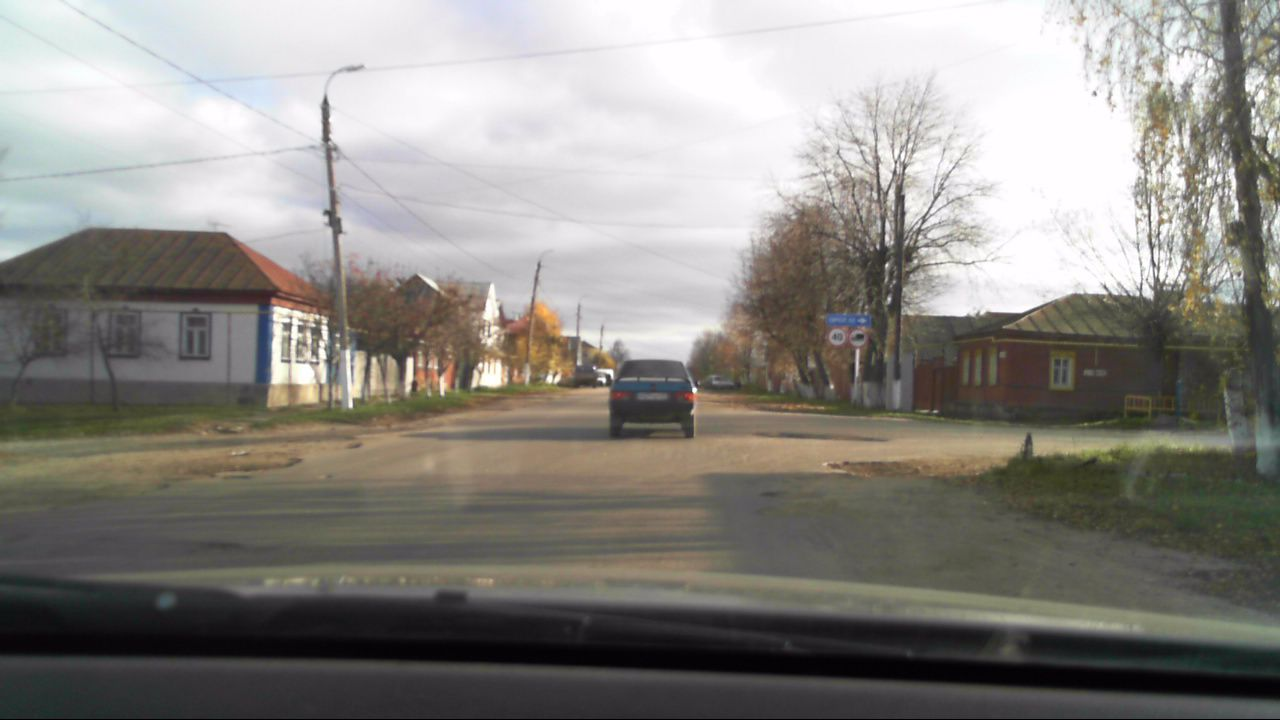speed_warning_40: (829, 327, 846, 346)
